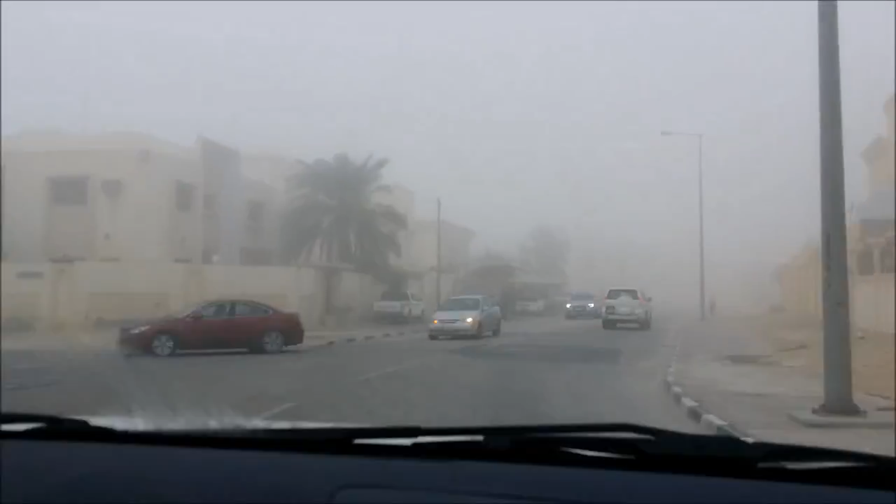car: (116, 296, 306, 358), (429, 294, 502, 340), (599, 287, 654, 332), (373, 289, 426, 323), (564, 289, 602, 318), (515, 292, 545, 315)
